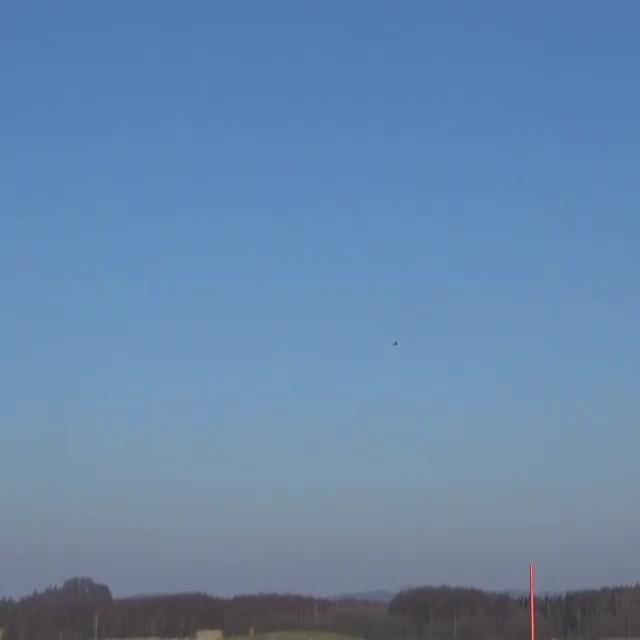bird: (390, 338, 400, 348)
